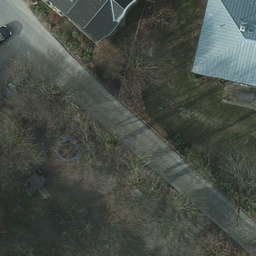car: (1, 24, 12, 45)
